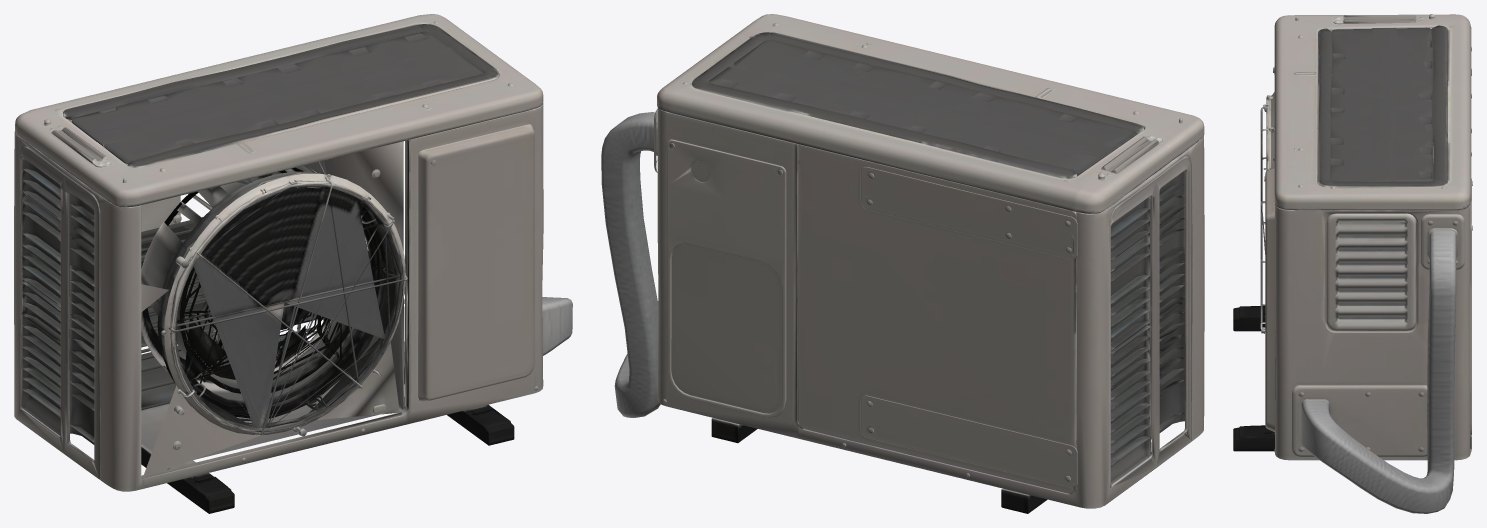
File: toonstudio_ac_unit.glb
3 renders of one model, left to right at view 1: azimuth 30°, elevation 25°; view 2: azimuth 150°, elevation 25°; view 3: azimuth 270°, elevation 25°, orthographic. The views are drawn at different scales.
Parts seen in each view (by area): view 1: tripo_8bfb6225_4904_4915_bdc4_96f60cddd989; view 2: tripo_8bfb6225_4904_4915_bdc4_96f60cddd989; view 3: tripo_8bfb6225_4904_4915_bdc4_96f60cddd989.
Part boxes in pixels (left/top/right/bottom): tripo_8bfb6225_4904_4915_bdc4_96f60cddd989: left=14, top=14, right=572, bottom=513; tripo_8bfb6225_4904_4915_bdc4_96f60cddd989: left=601, top=14, right=1204, bottom=513; tripo_8bfb6225_4904_4915_bdc4_96f60cddd989: left=1233, top=14, right=1472, bottom=513.
Bounding box in the file's own units: 0.9 × 0.5949 × 0.4296.
Materials: 1 (1 with a texture image).
